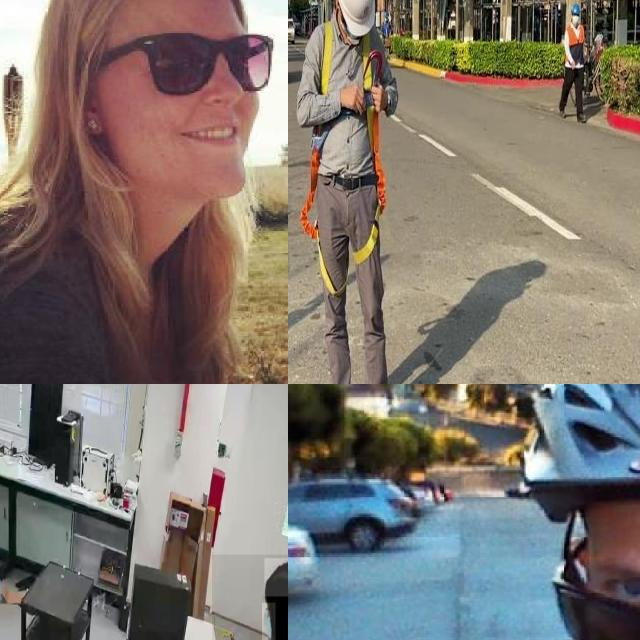Harness: (300, 143, 347, 296), (353, 112, 387, 266)
face_mask: (262, 602, 275, 640)
face_nomask: (144, 20, 264, 172)
glasses: (89, 29, 280, 108), (537, 575, 640, 640)
head_nohelmet: (53, 0, 252, 21), (264, 558, 288, 597)
person: (0, 0, 279, 384)
